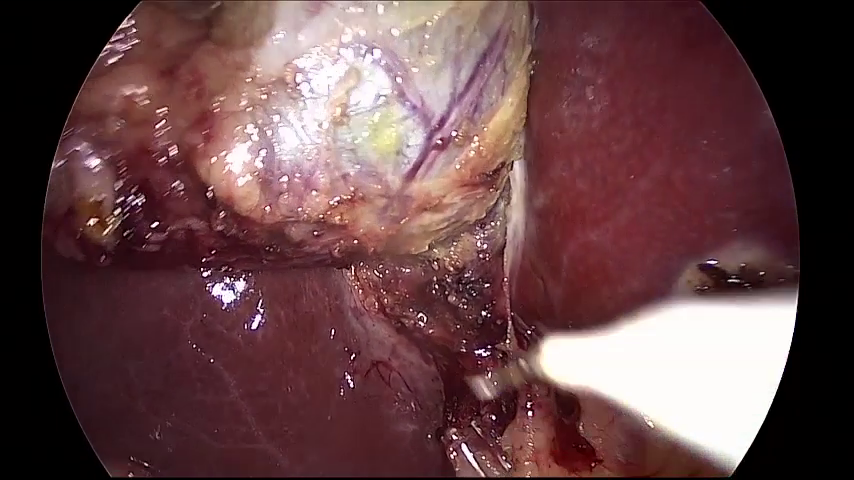lhook: (473, 288, 798, 471)
